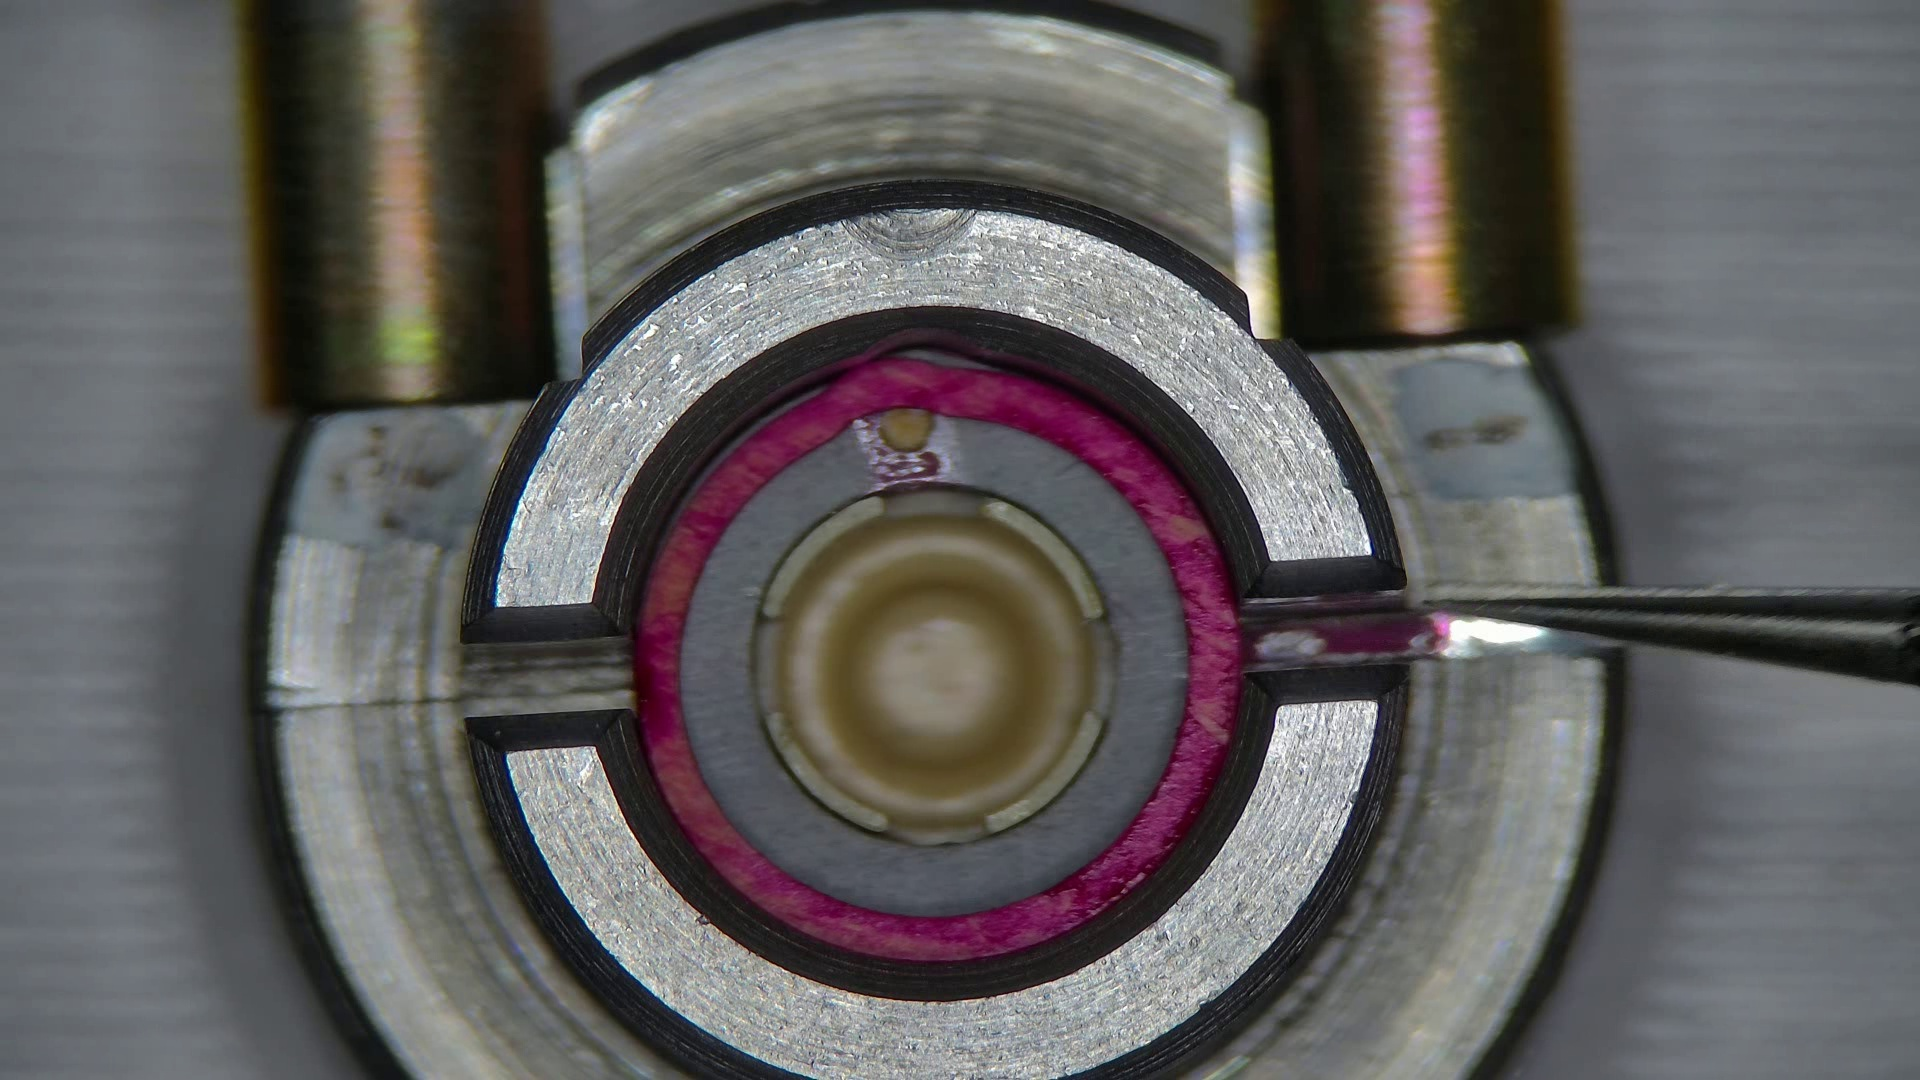GreyOring: (636, 357, 1240, 960)
YellowOring: (680, 413, 1187, 913)
